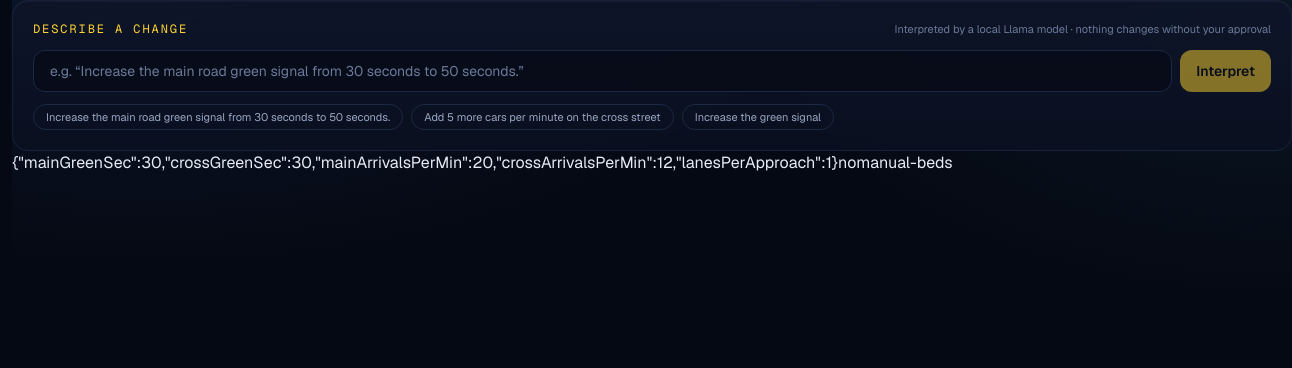
Scenario: ScenarioAssistant approval flow › clarification keeps the original request and sends the answer with it
This screenshot has width=1292, height=368.
Replace the text in the field named "Describe a scenario change" with "Increase the green signal to 50 seconds" at (603, 70), box [33,50,1172,92]
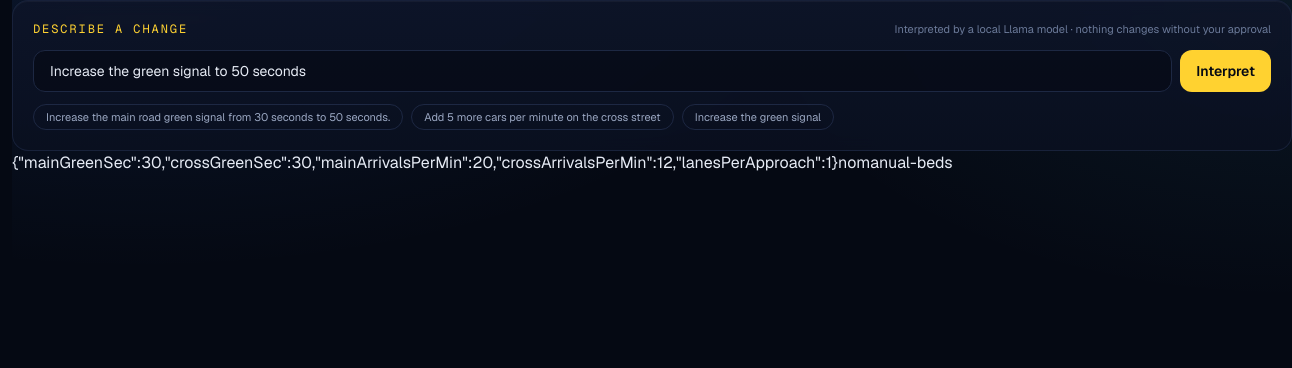
Click the button "Interpret" at (1226, 70), box [1180,50,1271,92]
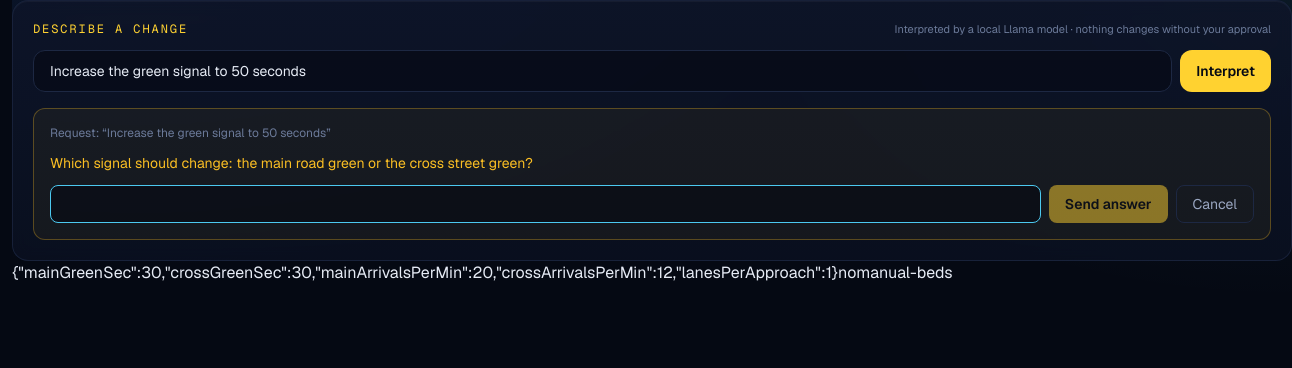
Expected: the text "Which signal should change" is shown, [50,154,533,172]
Type "the main road" into the field named "Your answer" at (545, 204), box [50,184,1041,222]
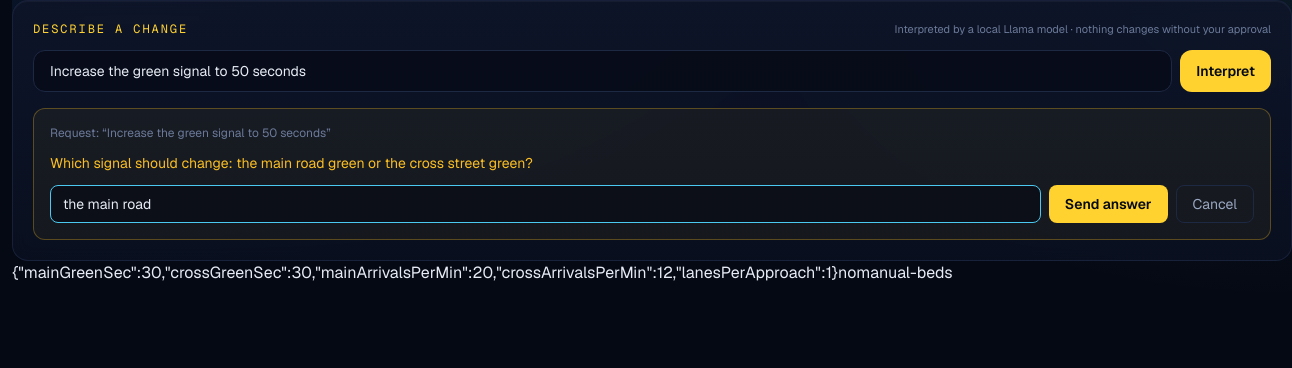
Click the button "Send answer" at (1108, 204), box [1049,184,1168,222]
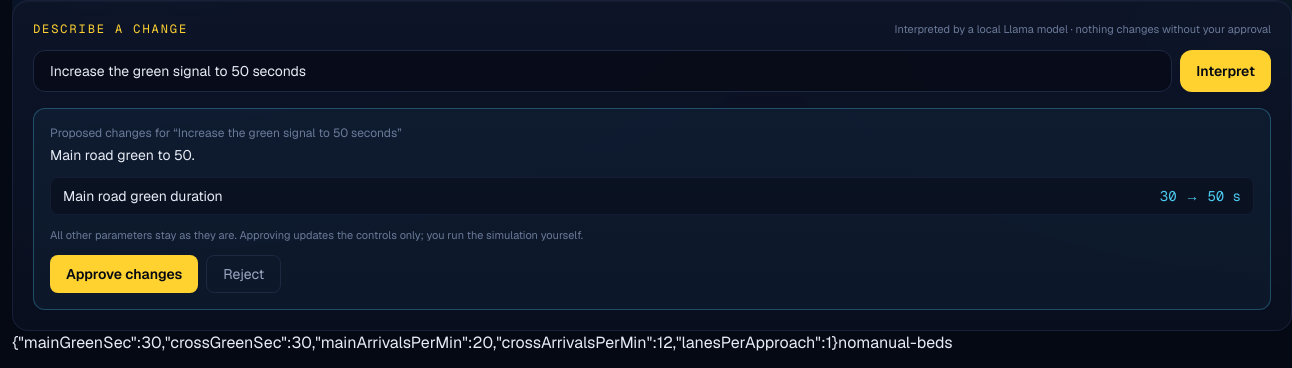
Expected: the text "30 → 50 s" is shown, [1160,186,1241,206]
